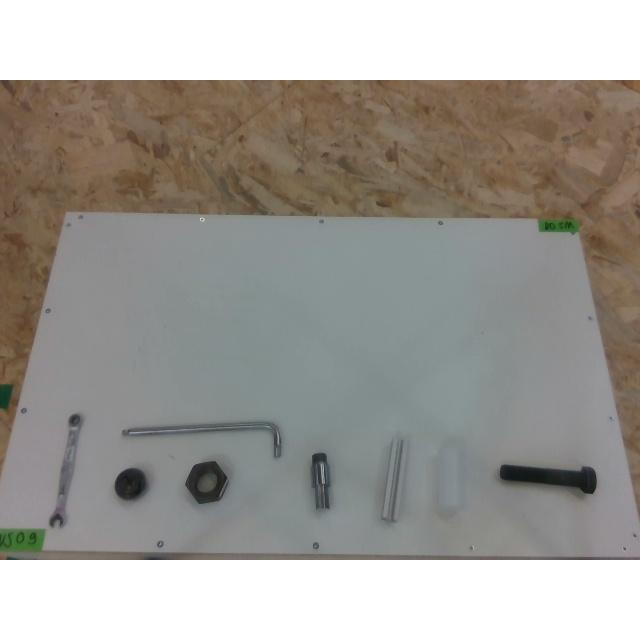AllenKey: (122, 421, 282, 457)
Axis2: (311, 450, 329, 510)
Bearing2: (114, 468, 146, 500)
F20_20_G: (380, 436, 408, 522)
M20_100: (499, 463, 596, 492)
M30: (185, 461, 227, 504)
Spacer: (434, 437, 468, 517)
Wrench: (49, 413, 83, 527)
